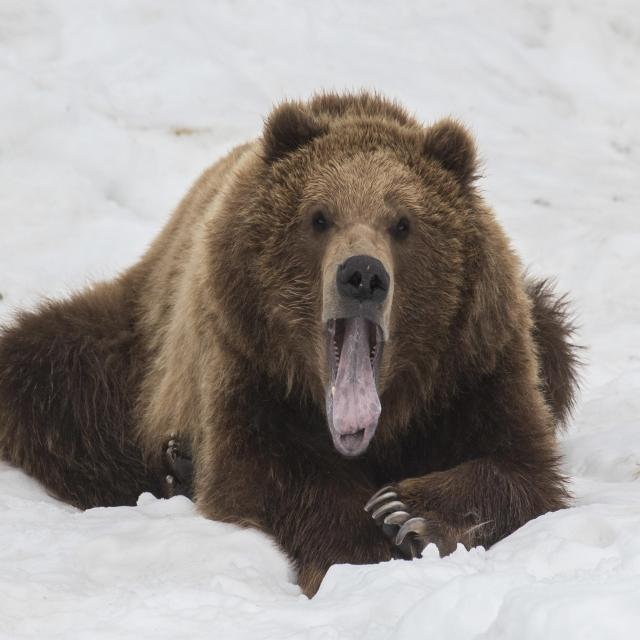Bear: (0, 92, 584, 600)
